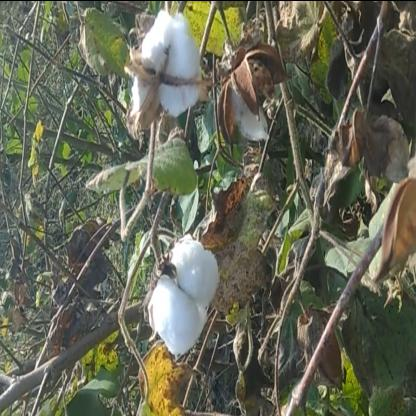cotton_ready: (135, 196, 221, 378), (121, 10, 218, 148)
